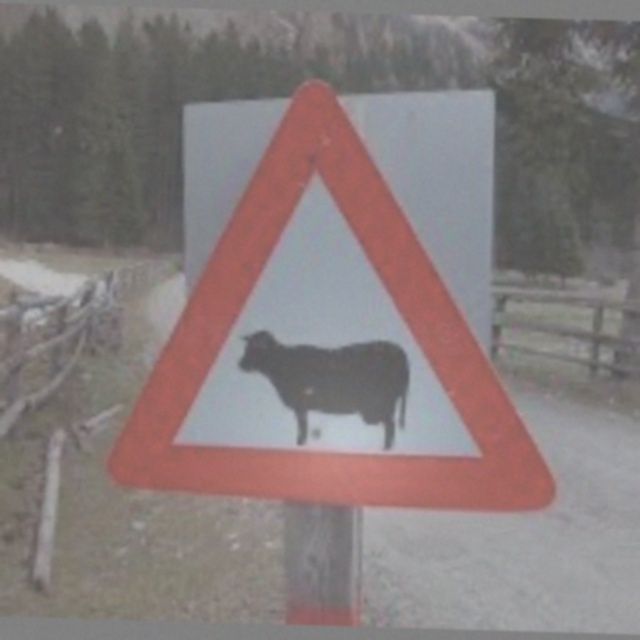Cattle: (138, 98, 548, 513)
